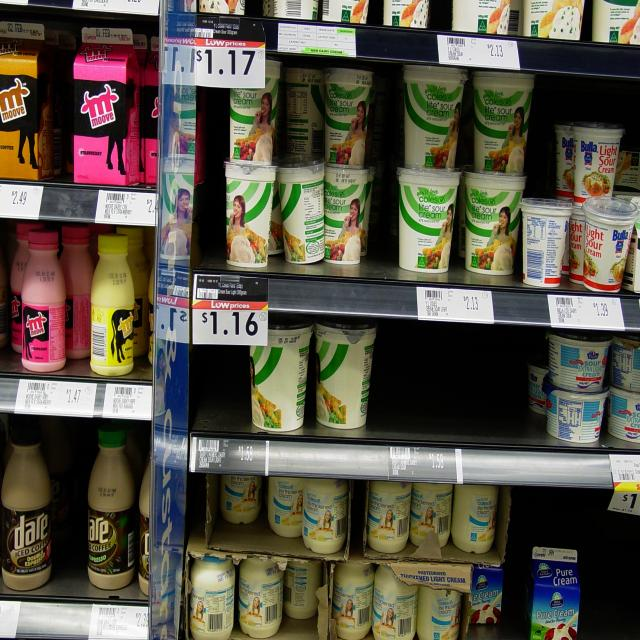empty_space: (392, 335, 520, 425), (589, 529, 640, 639), (53, 441, 91, 577), (192, 363, 248, 425)
